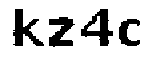4: (80, 5, 116, 48)
c: (117, 16, 143, 48)
k: (8, 6, 43, 49)
z: (44, 14, 75, 47)
